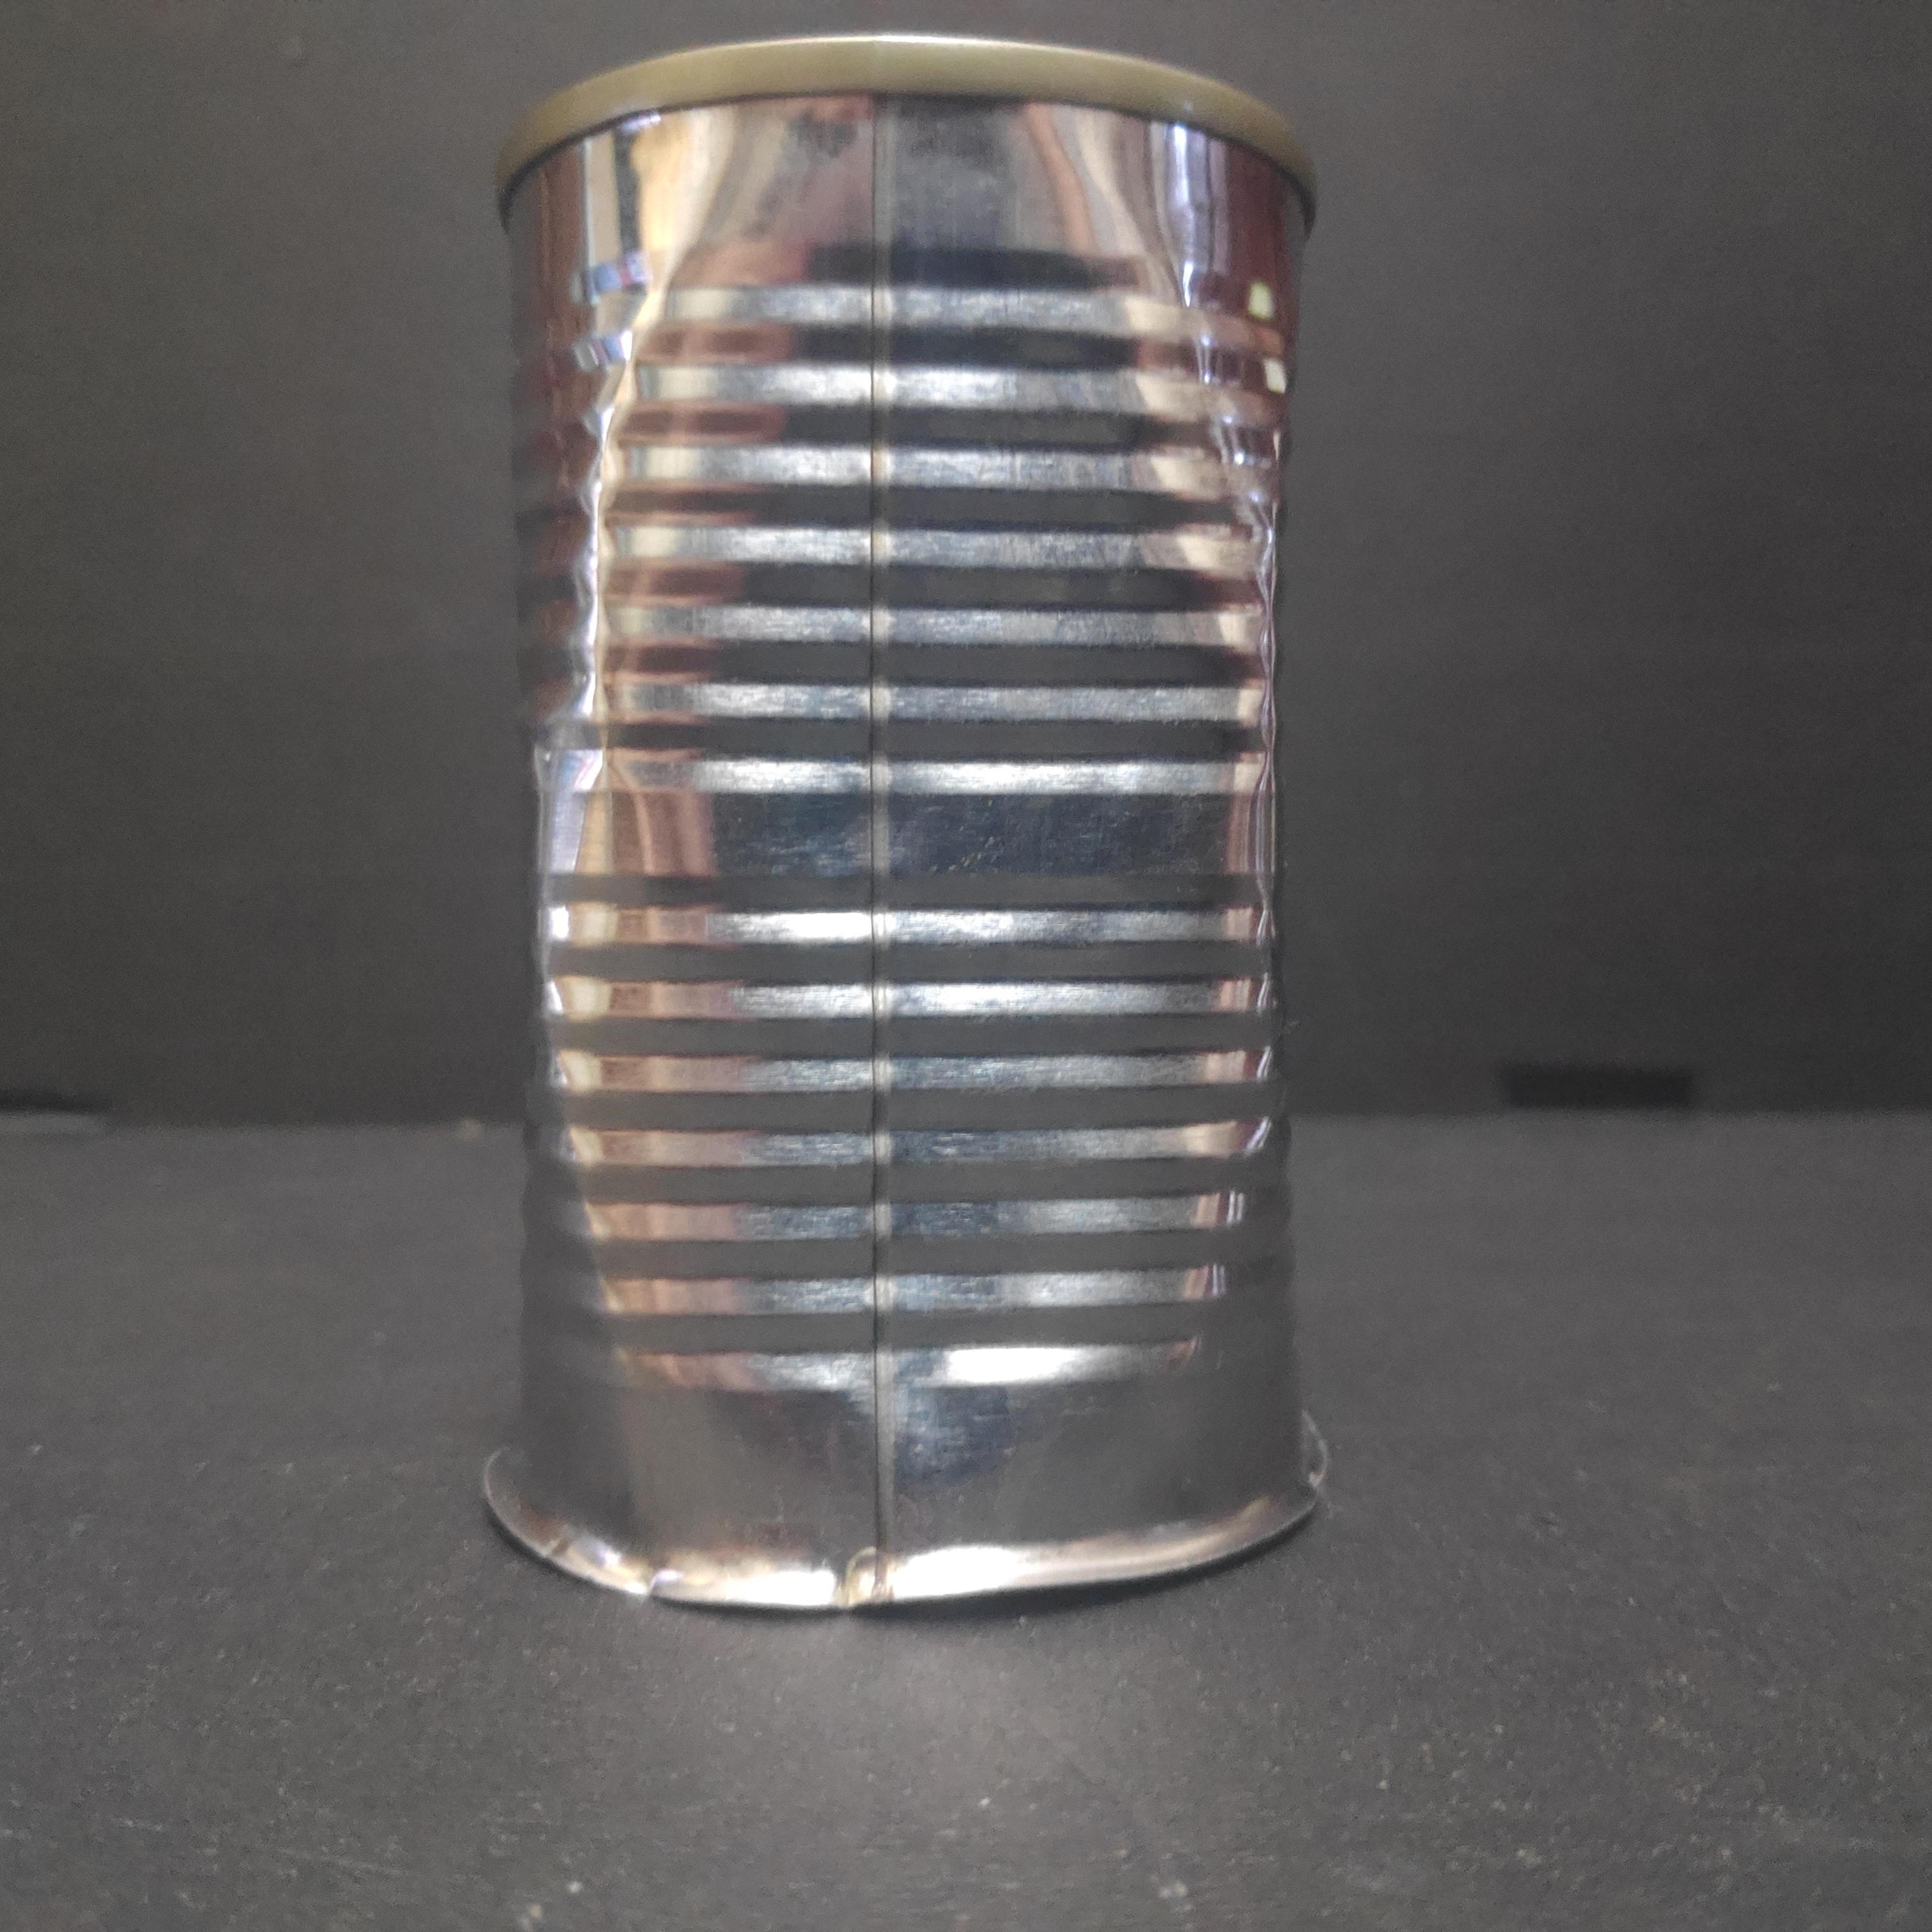Dented: (434, 13, 1351, 1639)
